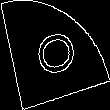O_W: (30, 28, 80, 82)
